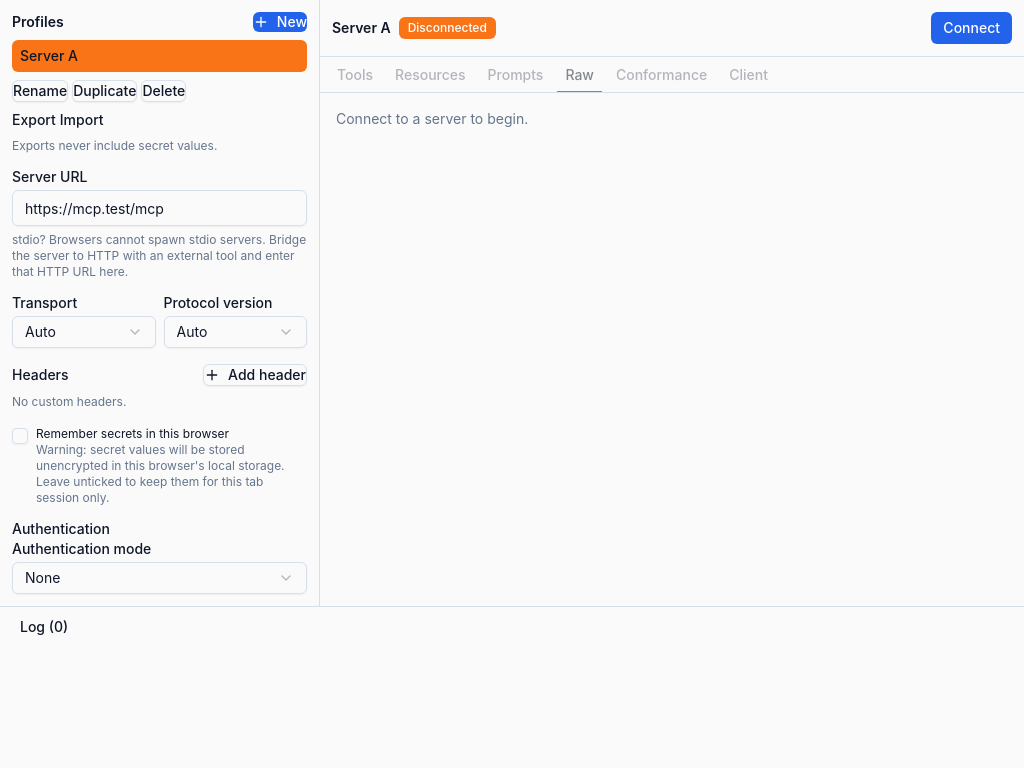
Test case: error state › renders title, detail, each hint as a list item, the HTTP status, and copies plain-text diagnostics
What coordinates should you click on to do the following:
click the button "Connect"
I would click on:
 (972, 28)
Its box is [931,12,1012,44].
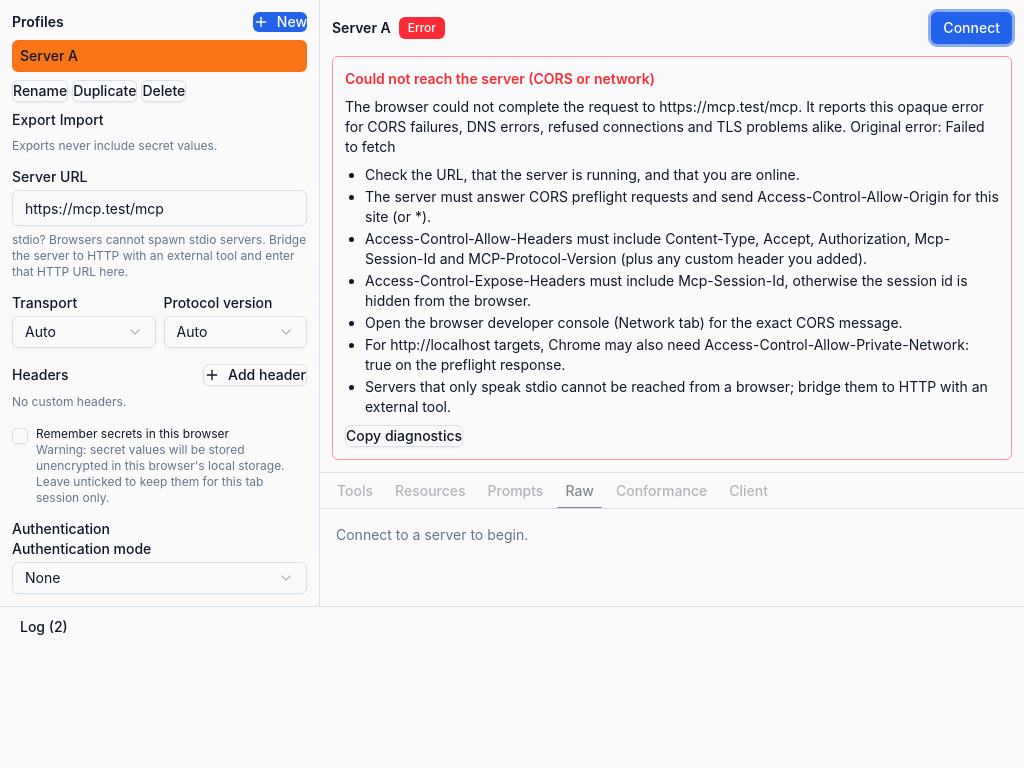
Expected: the text with test id "status-badge" reads "Error", [408,20,436,35]
Expected: the 2nd list item is shown, [365,166,800,183]
Expected: the message shows "Access-Control-Allow-Origin", [365,188,999,225]
What coordinates should you click on to do the following:
click the button "Copy diagnostics"
I would click on:
 (404, 436)
Its box is [345,425,463,447].
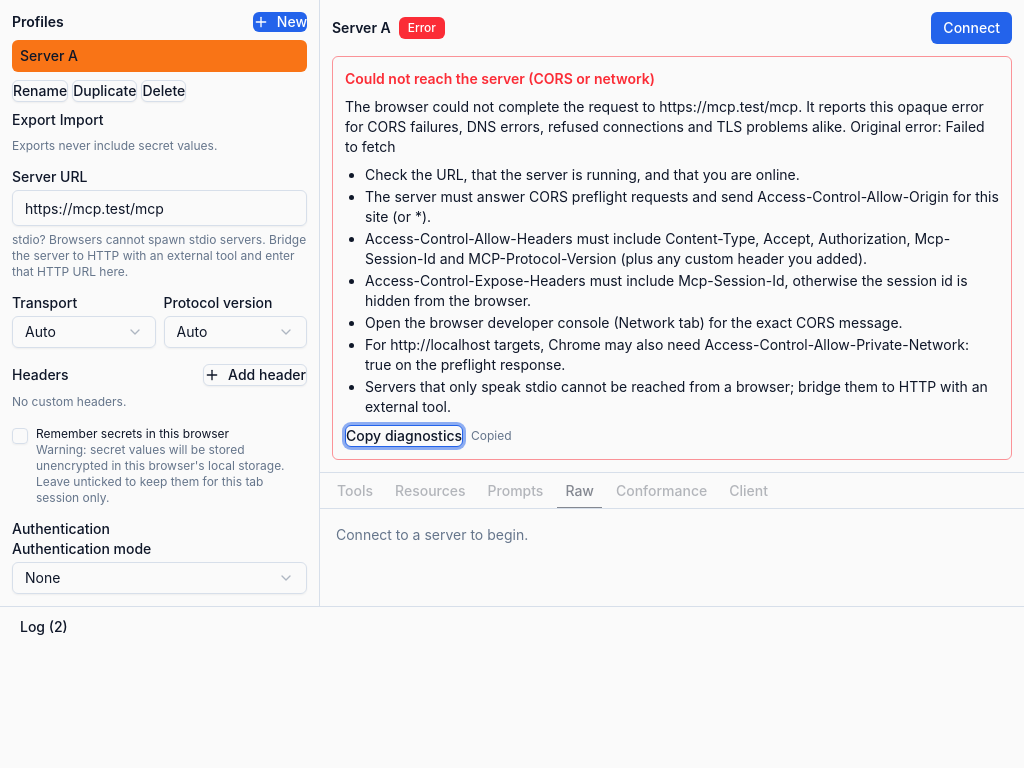
Expected: the text "Copied" is shown, [471,428,512,444]
